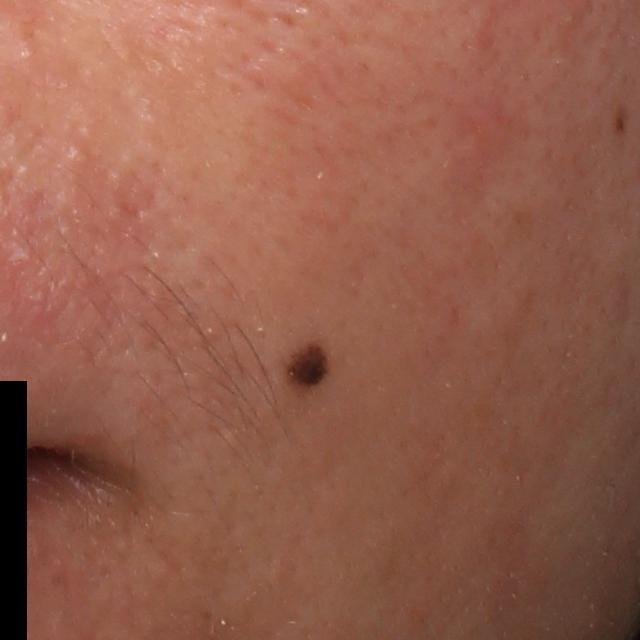nevus: (282, 347, 339, 390), (614, 114, 630, 139)
